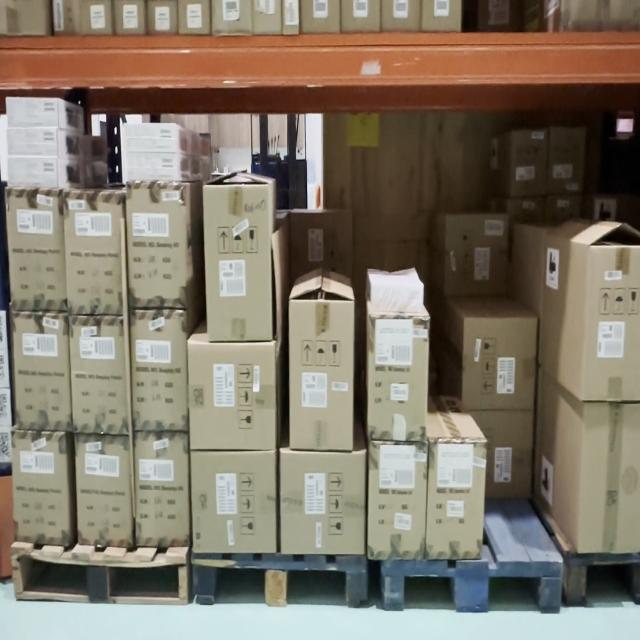box: (292, 301, 353, 450), (210, 185, 268, 339), (191, 343, 275, 448), (583, 402, 640, 552), (584, 248, 640, 399), (195, 449, 275, 552), (282, 452, 364, 552), (428, 445, 486, 557), (131, 184, 184, 306), (131, 312, 186, 429), (68, 192, 121, 312), (371, 442, 424, 560), (374, 318, 424, 440), (14, 432, 67, 543), (12, 192, 62, 309), (466, 320, 532, 408), (73, 318, 123, 432), (77, 435, 129, 543), (18, 314, 67, 426), (138, 435, 186, 544), (123, 154, 178, 180), (10, 158, 56, 187), (125, 124, 176, 150), (7, 99, 57, 124), (8, 129, 57, 154), (373, 284, 422, 308)
